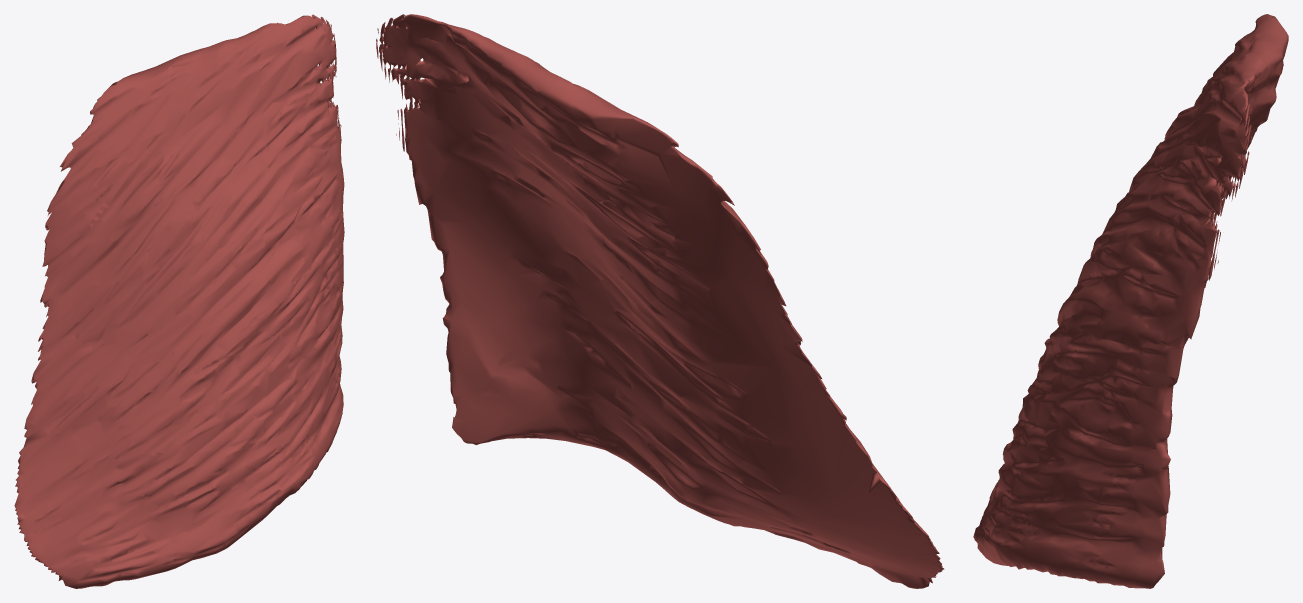
File: FMA38454.glb
The picture shows the model from 3 angles, left to right: view 1: azimuth 30°, elevation 25°; view 2: azimuth 150°, elevation 25°; view 3: azimuth 270°, elevation 25°; orthographic projection. The views are drawn at different scales.
Visible parts, largest first — view 1: FMA38454; view 2: FMA38454; view 3: FMA38454.
Part boxes in pixels (x1,y1,x2,y2): FMA38454: (14, 14, 344, 588); FMA38454: (376, 14, 944, 588); FMA38454: (973, 14, 1288, 588).
Size of the model in its own units: 0.0461 by 0.0506 by 0.0241.
